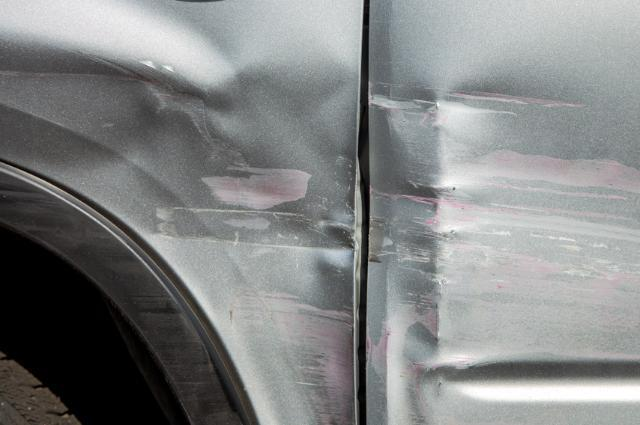Door: (367, 36, 640, 425)
Fender: (71, 32, 359, 425)
